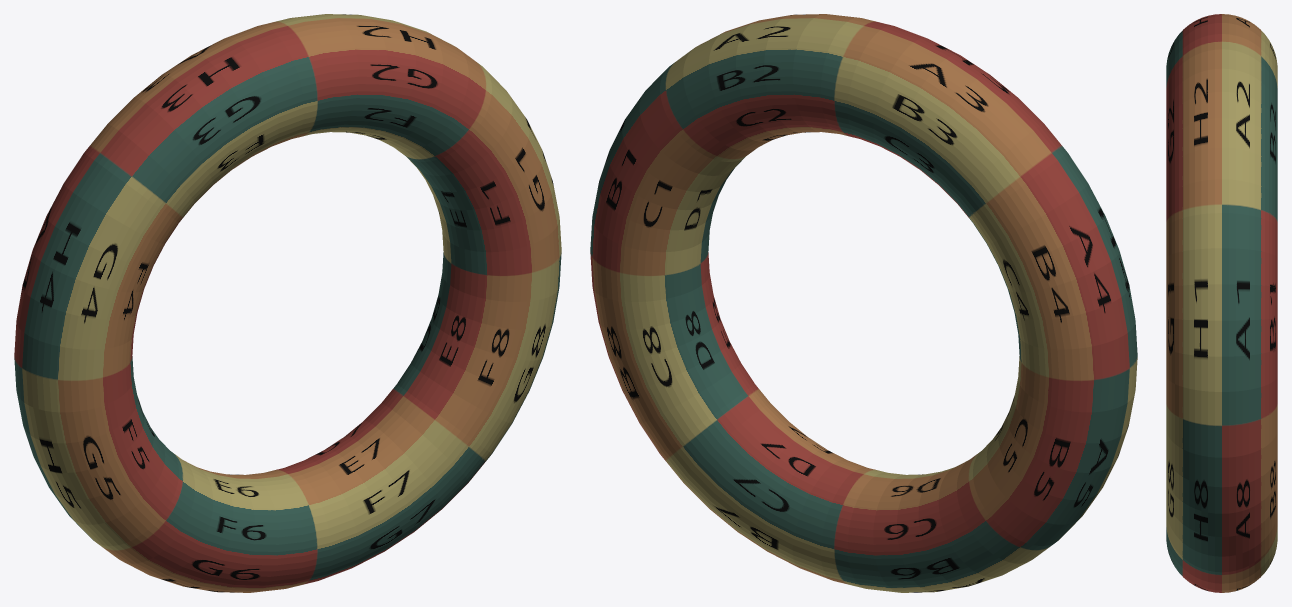
Rendered from texture_torus_R11_r8.glb.
3 renders of one model, left to right at view 1: azimuth 30°, elevation 25°; view 2: azimuth 150°, elevation 25°; view 3: azimuth 270°, elevation 25°, orthographic. The views are drawn at different scales.
Visible parts, largest first — view 1: world; view 2: world; view 3: world.
Boxes of the visible parts, x1,y1,x2,y2 form: world: (14, 14, 561, 592); world: (590, 14, 1137, 592); world: (1166, 14, 1277, 592).
Bounding box in the file's own units: 21.47 × 21.42 × 4.13.
Materials: 1 (1 with a texture image).
